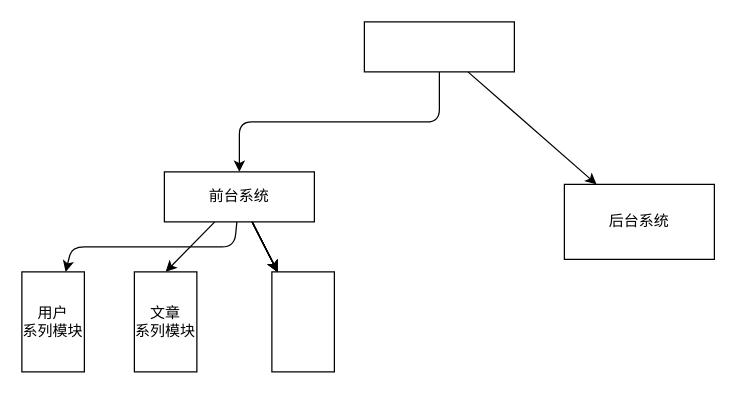
Some shapes in this 736 by 394 pixel diagram are drawn without their labels. The shapes that lost their labels are listed below. From the top down, each one's centre as x and y in pixels, then its label:
At [438,46]: "程序员社区网站".
At [302,321]: "课程 系列模块".
